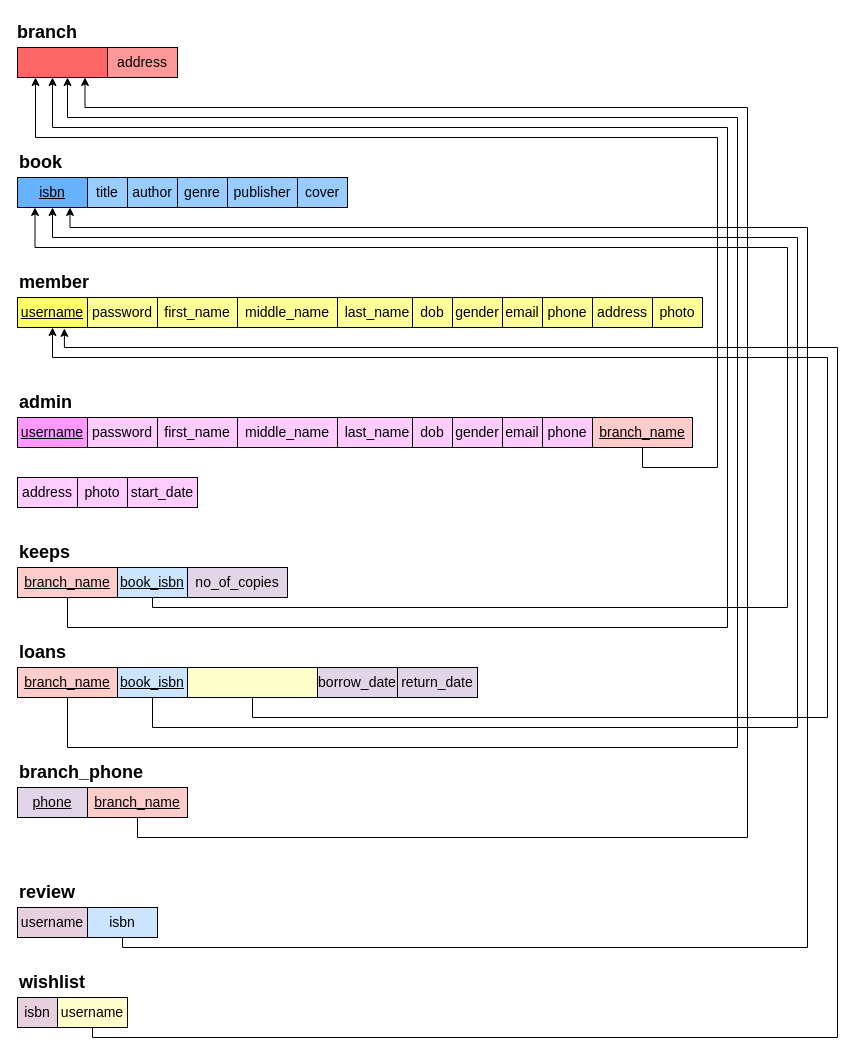
Some shapes in this 863 by 1063 pixel diagram are drawn without their labels. The centre of each missing label's shape, as x and y in pixels:
"member_username" goes at pixel 252 682.
"name" goes at pixel 62 62.
